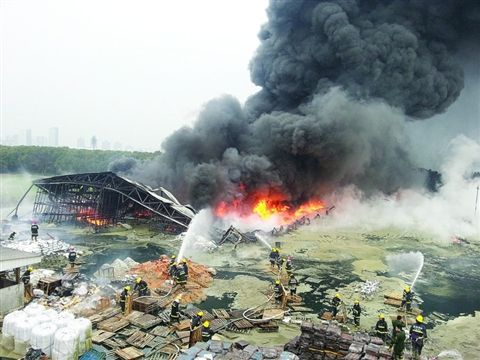fire: (209, 187, 329, 230)
smoke: (205, 11, 479, 175)
